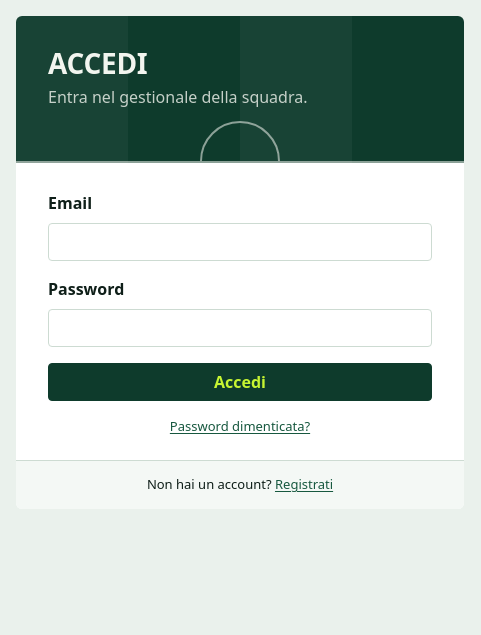
Test: LoginPage › mostra l'errore del server e il link di reinvio per gli account in attesa
This screenshot has width=481, height=635.
In the field labelled "Email": (240, 242) [48,223,432,261], type "mario@example.com"
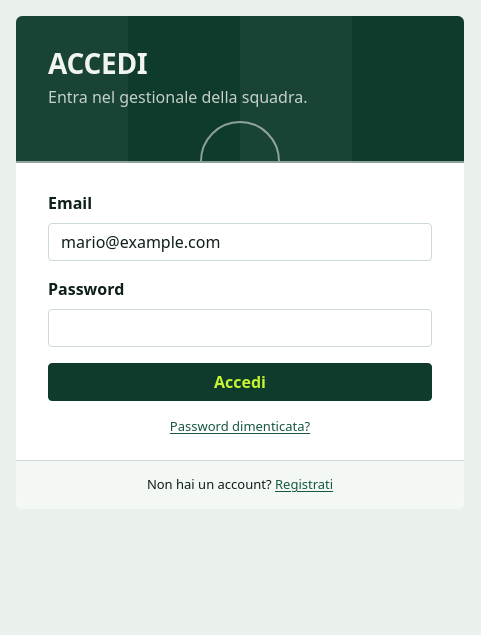
In the password field labelled "Password": (240, 328) [48,309,432,347], type "Calcetto2026"
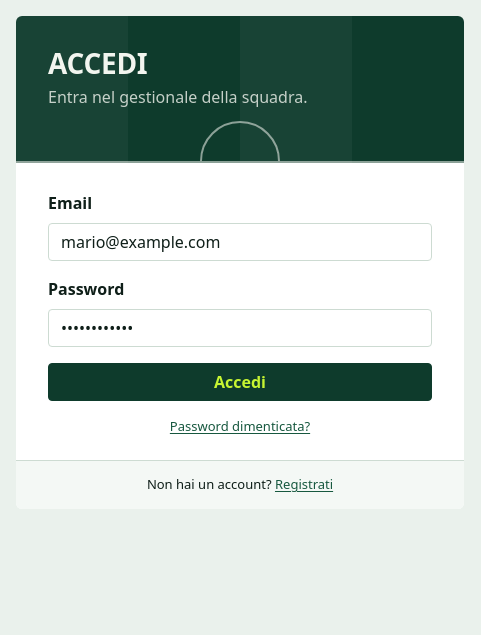
Click the button "Accedi": (240, 382) [48,363,432,401]
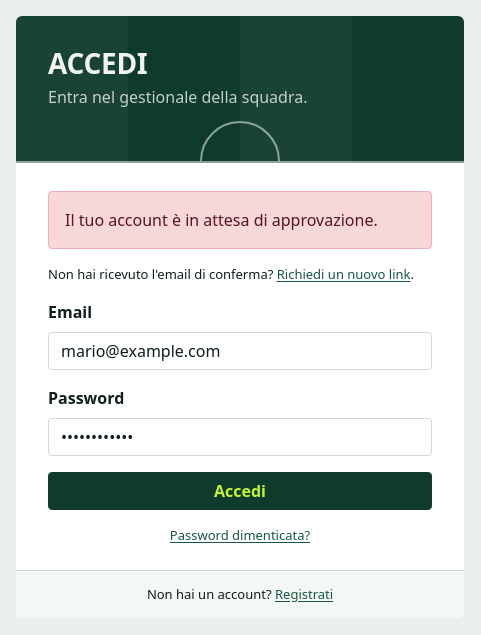
Expected: the message shows "in attesa di approvazione", [65,209,378,231]
Expected: the link "Richiedi un nuovo link" is shown, [277,265,410,283]
